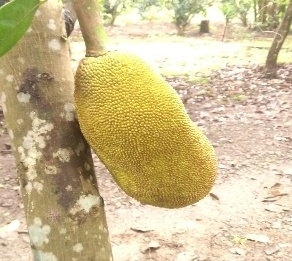Mit: (74, 53, 216, 209)
